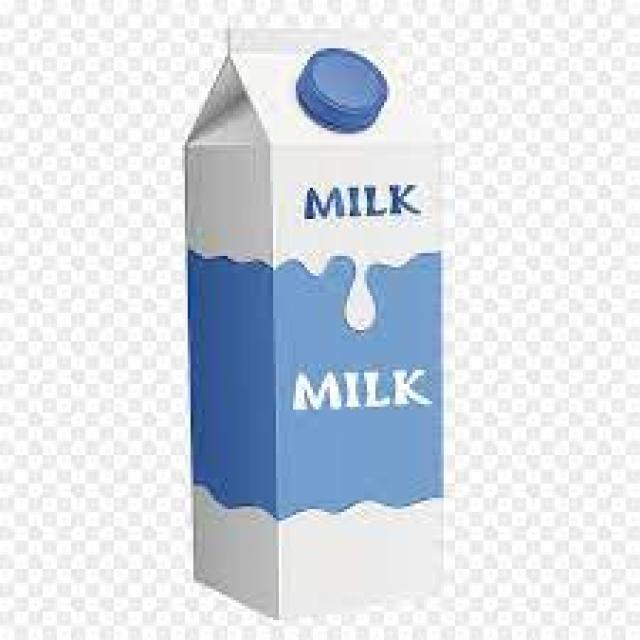non_white_jug: (169, 6, 462, 623)
